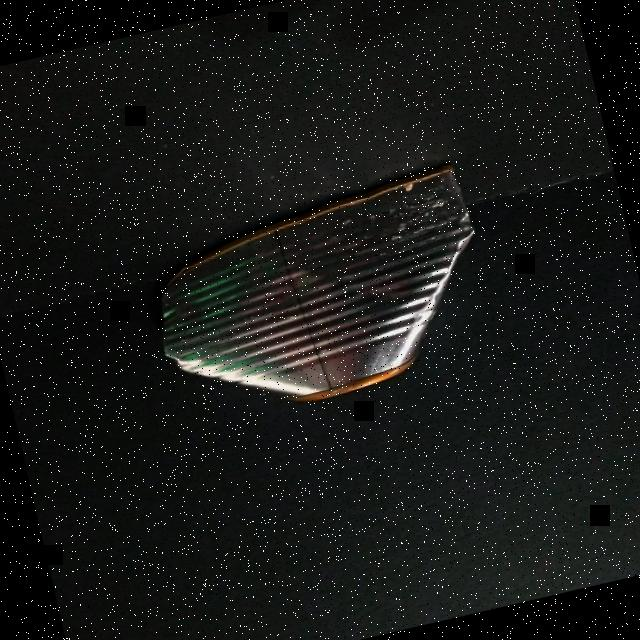can: (131, 155, 510, 436)
